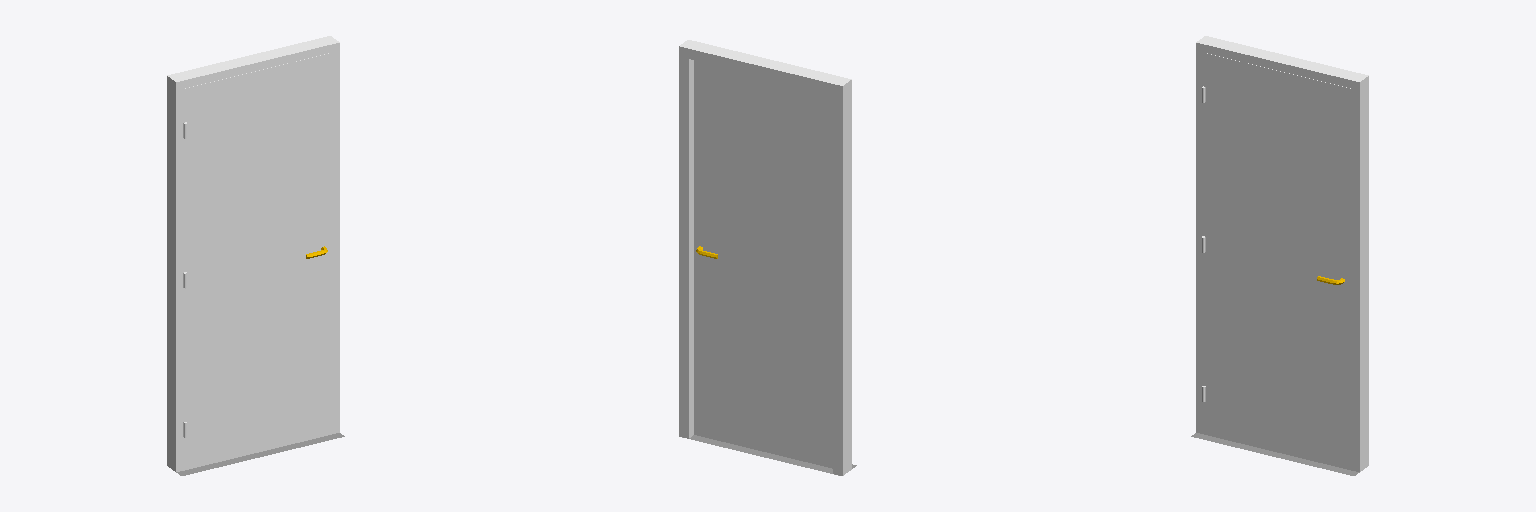
Rendered from porte.obj.
3 views of the same model, side by side, from view 1: azimuth 30°, elevation 25°; view 2: azimuth 150°, elevation 25°; view 3: azimuth 330°, elevation 25° (orthographic).
Parts seen in each view (by area): view 1: sweethome3d_opening_on_hinge_1_door_10, frame_2, ground_1; view 2: sweethome3d_opening_on_hinge_1_door_10, frame_2, ground_1; view 3: sweethome3d_opening_on_hinge_1_door_10, frame_2, ground_1.
Part boxes in pixels (left/top/right/bottom): sweethome3d_opening_on_hinge_1_door_10: left=184, top=53, right=331, bottom=470; frame_2: left=167, top=36, right=339, bottom=471; ground_1: left=176, top=433, right=344, bottom=475; sweethome3d_opening_on_hinge_1_door_10: left=694, top=60, right=832, bottom=468; frame_2: left=679, top=40, right=851, bottom=475; ground_1: left=682, top=435, right=856, bottom=475; sweethome3d_opening_on_hinge_1_door_10: left=1204, top=53, right=1351, bottom=470; frame_2: left=1196, top=36, right=1368, bottom=471; ground_1: left=1191, top=433, right=1359, bottom=475.
Bounding box in the file's own units: 91.5 × 208 × 14.5.